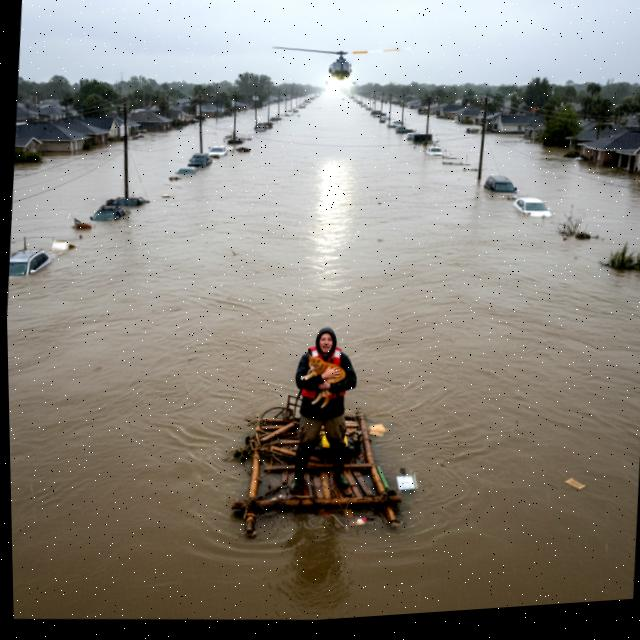cat: (298, 349, 354, 417)
civilian: (287, 313, 367, 509)
